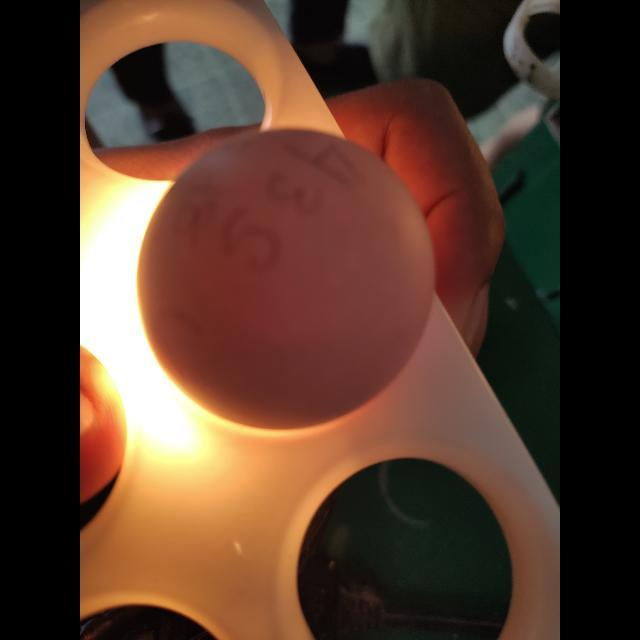Fertile: (135, 125, 429, 433)
